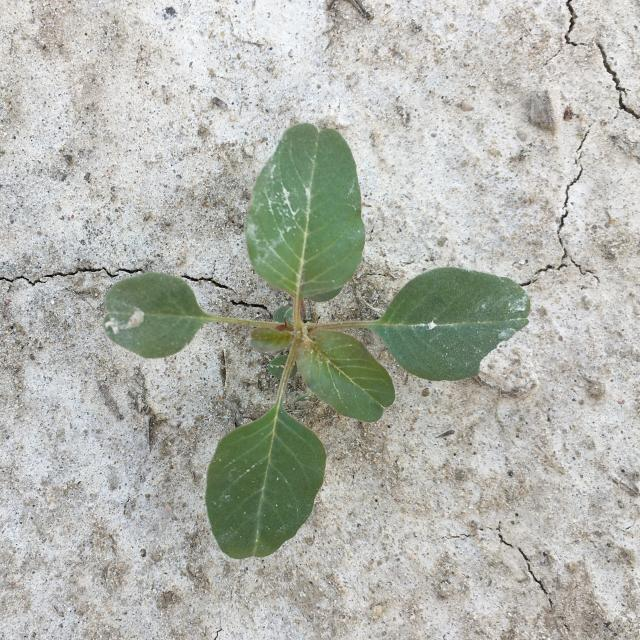PalmerAmaranth: (102, 122, 531, 560)
